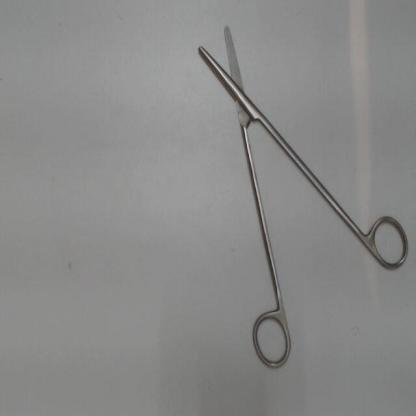9 Metzenbaum Scissors: (196, 17, 414, 374)
